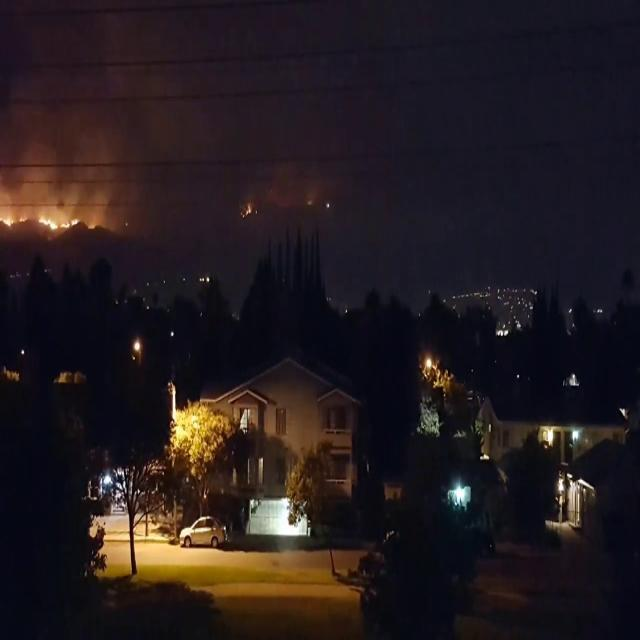Fire: (246, 156, 330, 207), (37, 216, 79, 230), (3, 212, 27, 230), (240, 202, 252, 218)
Smoke: (18, 147, 48, 228), (51, 184, 79, 214), (90, 185, 108, 229), (0, 178, 14, 212)
